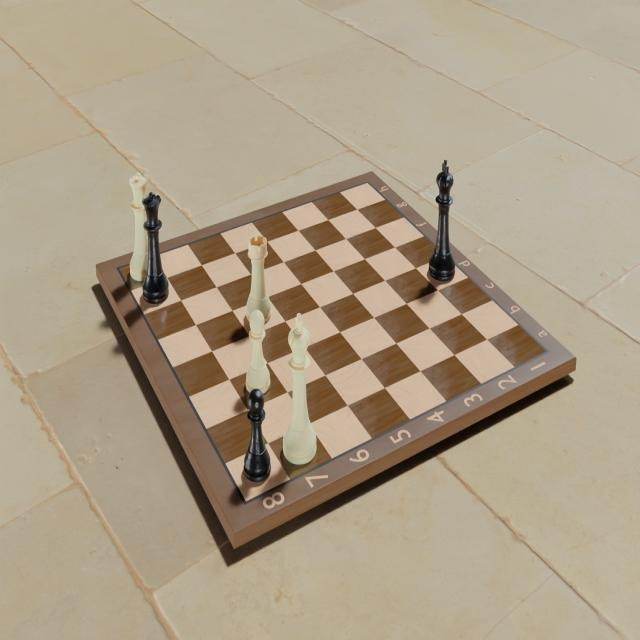black-king: (426, 156, 458, 284)
black-pawn: (237, 386, 275, 490)
black-queen: (141, 190, 171, 306)
white-king: (279, 309, 320, 471)
white-pawn: (241, 308, 273, 398)
white-queen: (127, 171, 150, 291)
white-rook: (245, 233, 275, 327)
